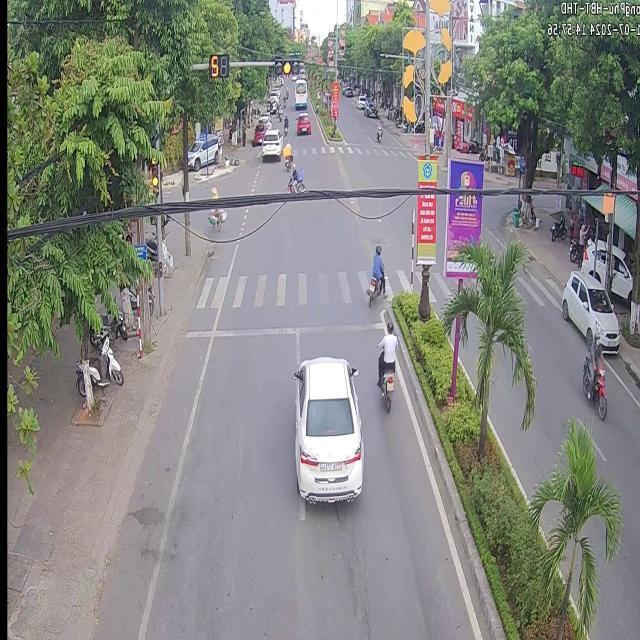car: (290, 356, 362, 502)
motobike: (376, 318, 397, 409), (366, 242, 387, 305)
stop_line: (183, 318, 381, 337)
yellow_light: (272, 56, 299, 74), (149, 156, 159, 194), (149, 129, 159, 149)
